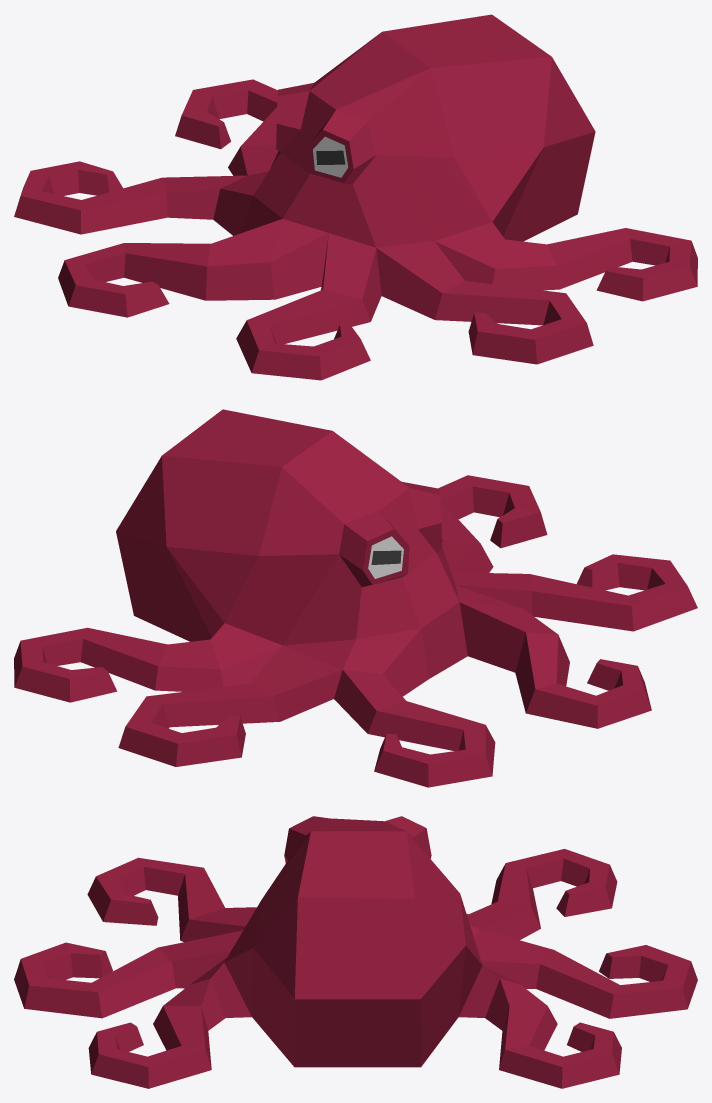
The model's file is Octopus.fbx.
3 views of the same model, one above another, from view 1: azimuth 30°, elevation 25°; view 2: azimuth 150°, elevation 25°; view 3: azimuth 270°, elevation 25° (orthographic). The views are drawn at different scales.
Visible parts, largest first — view 1: Octopus; view 2: Octopus; view 3: Octopus.
Boxes of the visible parts, box(x1,y1,x2,y2) form: Octopus: box(14, 14, 697, 380); Octopus: box(14, 409, 697, 787); Octopus: box(14, 816, 697, 1088).
Size of the model in its own units: 693 by 223 by 806.
